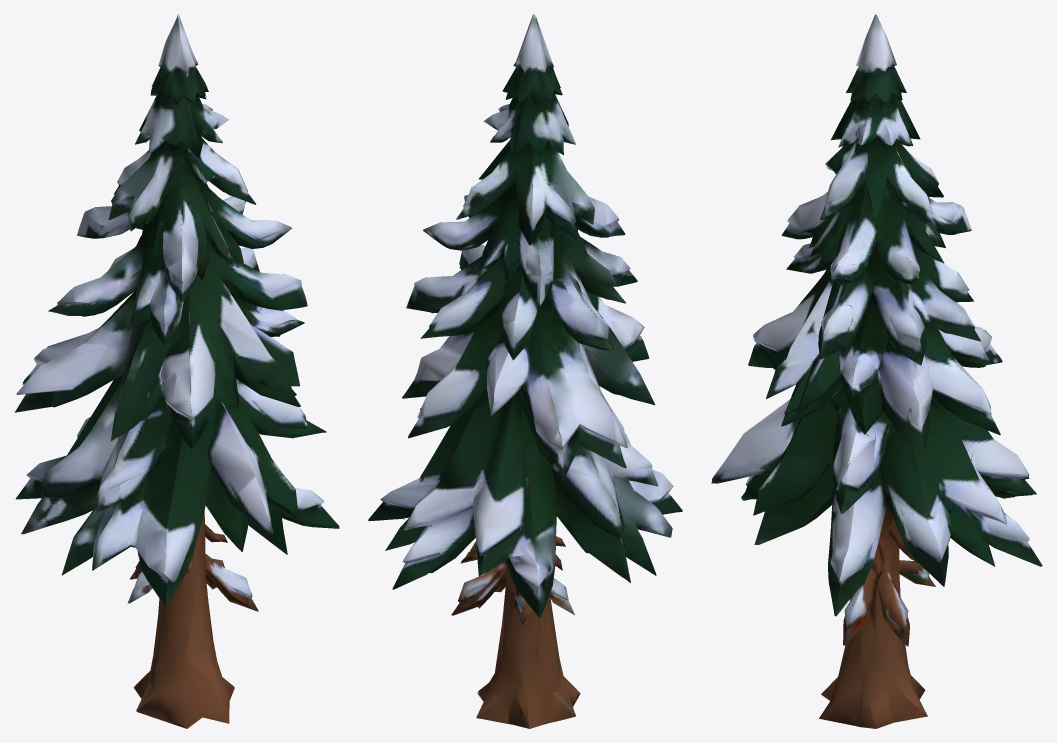
File: pine_gen_c.glb
3 renders of one model, left to right at view 1: azimuth 30°, elevation 25°; view 2: azimuth 150°, elevation 25°; view 3: azimuth 270°, elevation 25°, orthographic.
Parts seen in each view (by area): view 1: tree_2; view 2: tree_2; view 3: tree_2.
Boxes of the visible parts, x1,y1,x2,y2 form: tree_2: (14,14,339,728); tree_2: (368,14,682,728); tree_2: (711,14,1042,728).
Size of the model in its own units: 3.64 by 9 by 3.89.
Materials: 1 (1 with a texture image).
